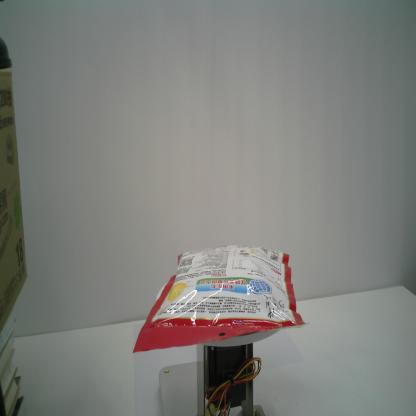Instant Drink: (132, 243, 309, 357)
